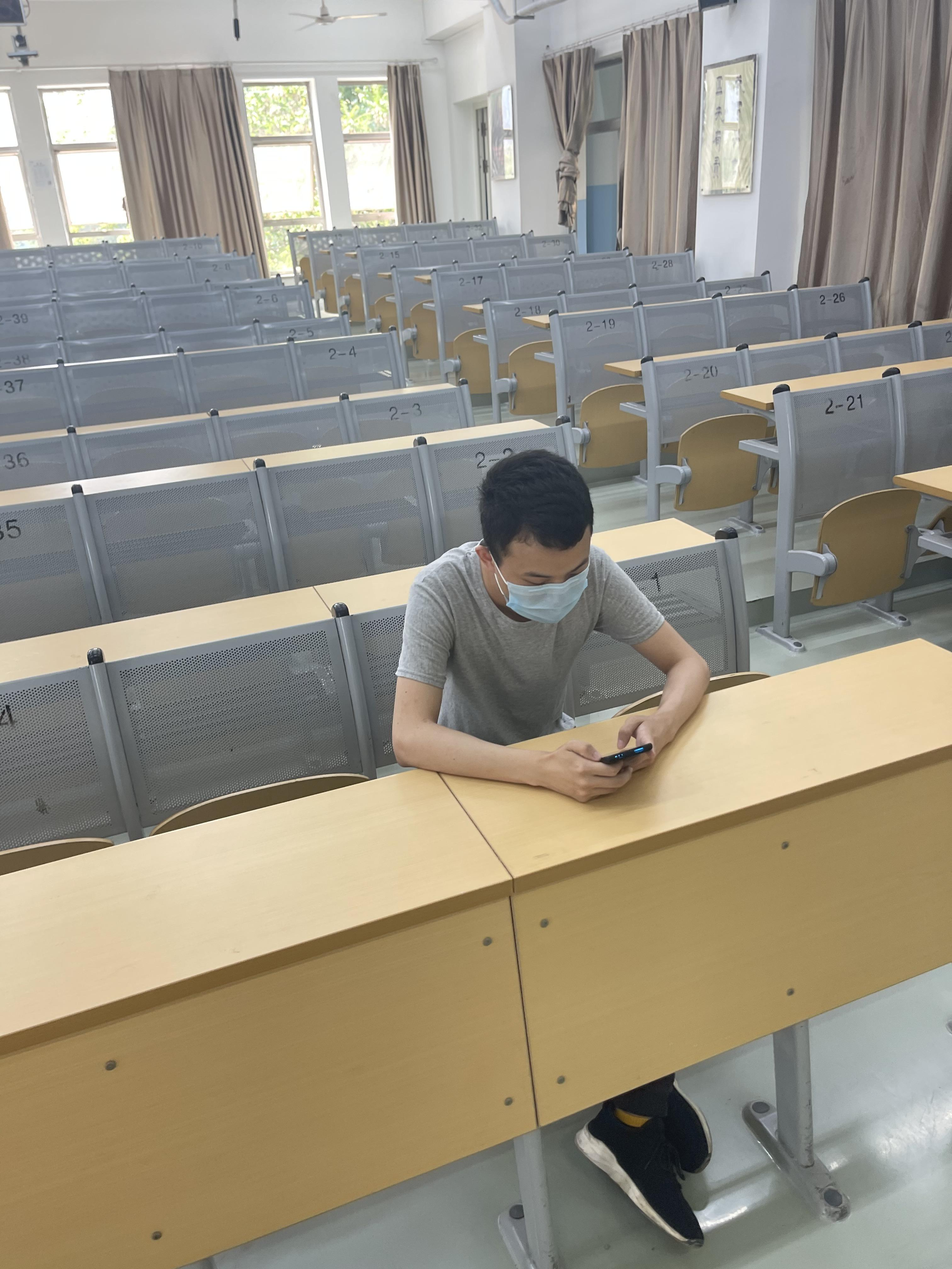phone: (393, 456, 707, 798)
